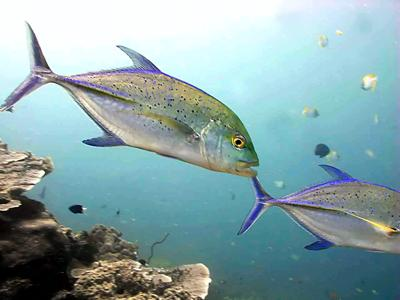Carangidae -Jacks-: (6, 18, 262, 181), (234, 157, 399, 254)
